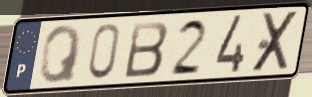0: (87, 22, 123, 82)
2: (166, 17, 211, 76)
4: (214, 13, 247, 76)
B: (122, 19, 171, 81)
Q: (37, 23, 84, 86)
X: (249, 8, 303, 76)
